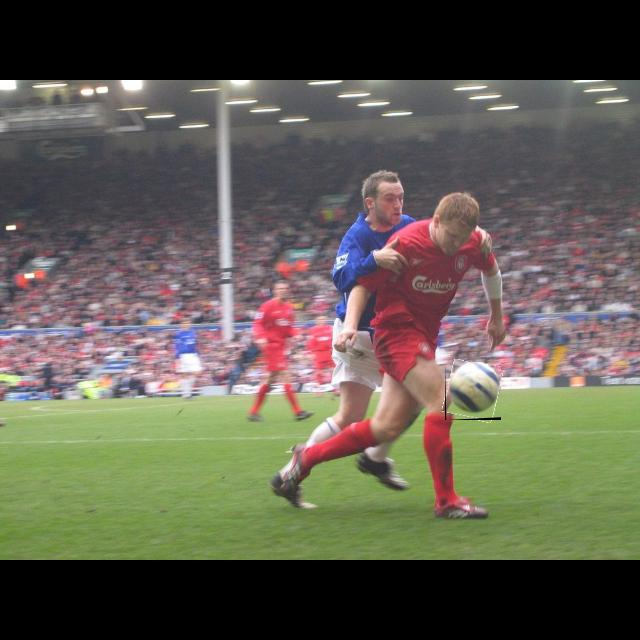Football: (445, 362, 501, 420)
